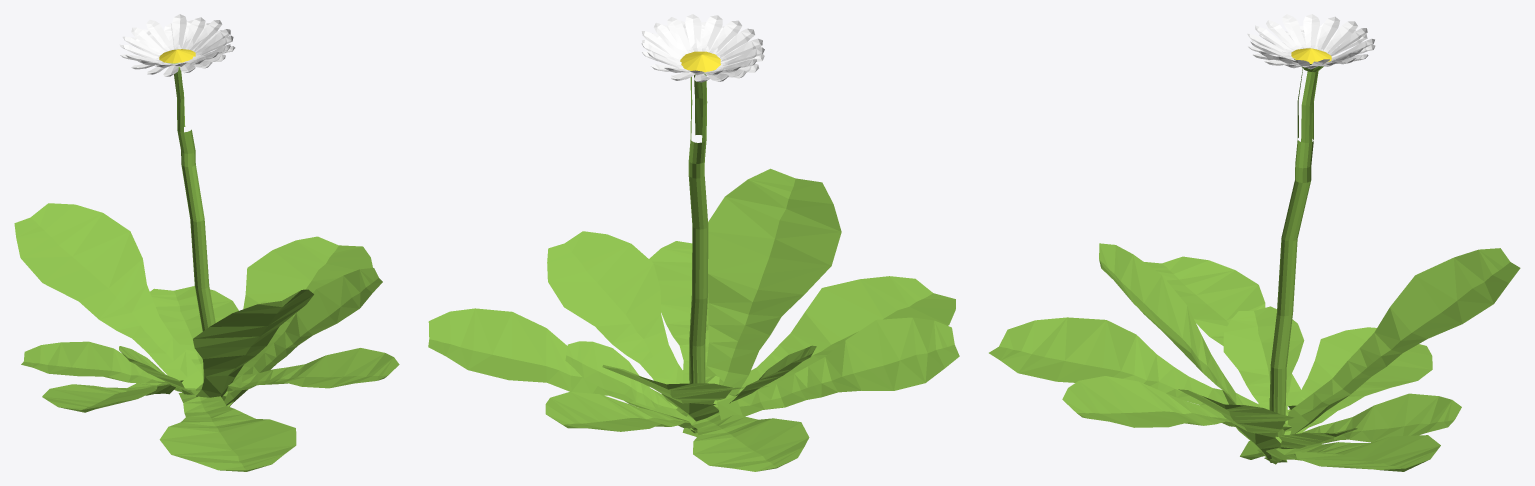
The model's file is plant30.glb.
The picture shows the model from 3 angles, left to right: view 1: azimuth 30°, elevation 25°; view 2: azimuth 150°, elevation 25°; view 3: azimuth 270°, elevation 25°; orthographic projection. The views are drawn at different scales.
Parts seen in each view (by area): view 1: group2019668452, group1465175876, group363313645, group1539540807, group867217690, group1952359866, group891301753, group344732809, group653353681, group1848682371, group466956623, group1511724749 (+1 smaller); view 2: group1539540807, group867217690, group1848682371, group363313645, group1465175876, group891301753, group344732809, group1952359866, group653353681, group1511724749, group2019668452, group466956623; view 3: group2019668452, group1465175876, group891301753, group1539540807, group1952359866, group1848682371, group344732809, group653353681, group466956623, group363313645, group867217690, group1511724749.
Boxes of the visible parts, x1,y1,x2,y2 form: group2019668452: (14,203,203,388); group1465175876: (159,390,296,471); group363313645: (227,236,372,406); group1539540807: (193,289,313,397); group867217690: (224,268,382,406); group1952359866: (196,348,399,391); group891301753: (159,49,215,380); group344732809: (21,341,228,400); group653353681: (150,286,238,376); group1848682371: (42,380,183,412); group466956623: (119,346,194,394); group1511724749: (237,301,293,374); group1539540807: (682,168,841,436); group867217690: (547,231,682,408); group1848682371: (717,317,959,420); group363313645: (428,308,688,421); group1465175876: (713,276,955,407); group891301753: (680,51,720,433); group344732809: (676,407,809,471); group1952359866: (649,241,719,404); group653353681: (545,391,694,431); group1511724749: (565,341,696,432); group2019668452: (602,365,745,421); group466956623: (693,345,816,429); group2019668452: (1287,248,1520,434); group1465175876: (989,317,1259,408); group891301753: (1269,48,1331,460); group1539540807: (1099,243,1287,462); group1952359866: (1062,376,1291,430); group1848682371: (1144,256,1303,409); group344732809: (1275,327,1432,442); group653353681: (1240,393,1461,459); group466956623: (1223,306,1304,413); group363313645: (1257,435,1440,471); group867217690: (1178,389,1294,460); group1511724749: (1264,428,1357,464).
Size of the model in its own units: 2.49 by 2.29 by 2.61.
